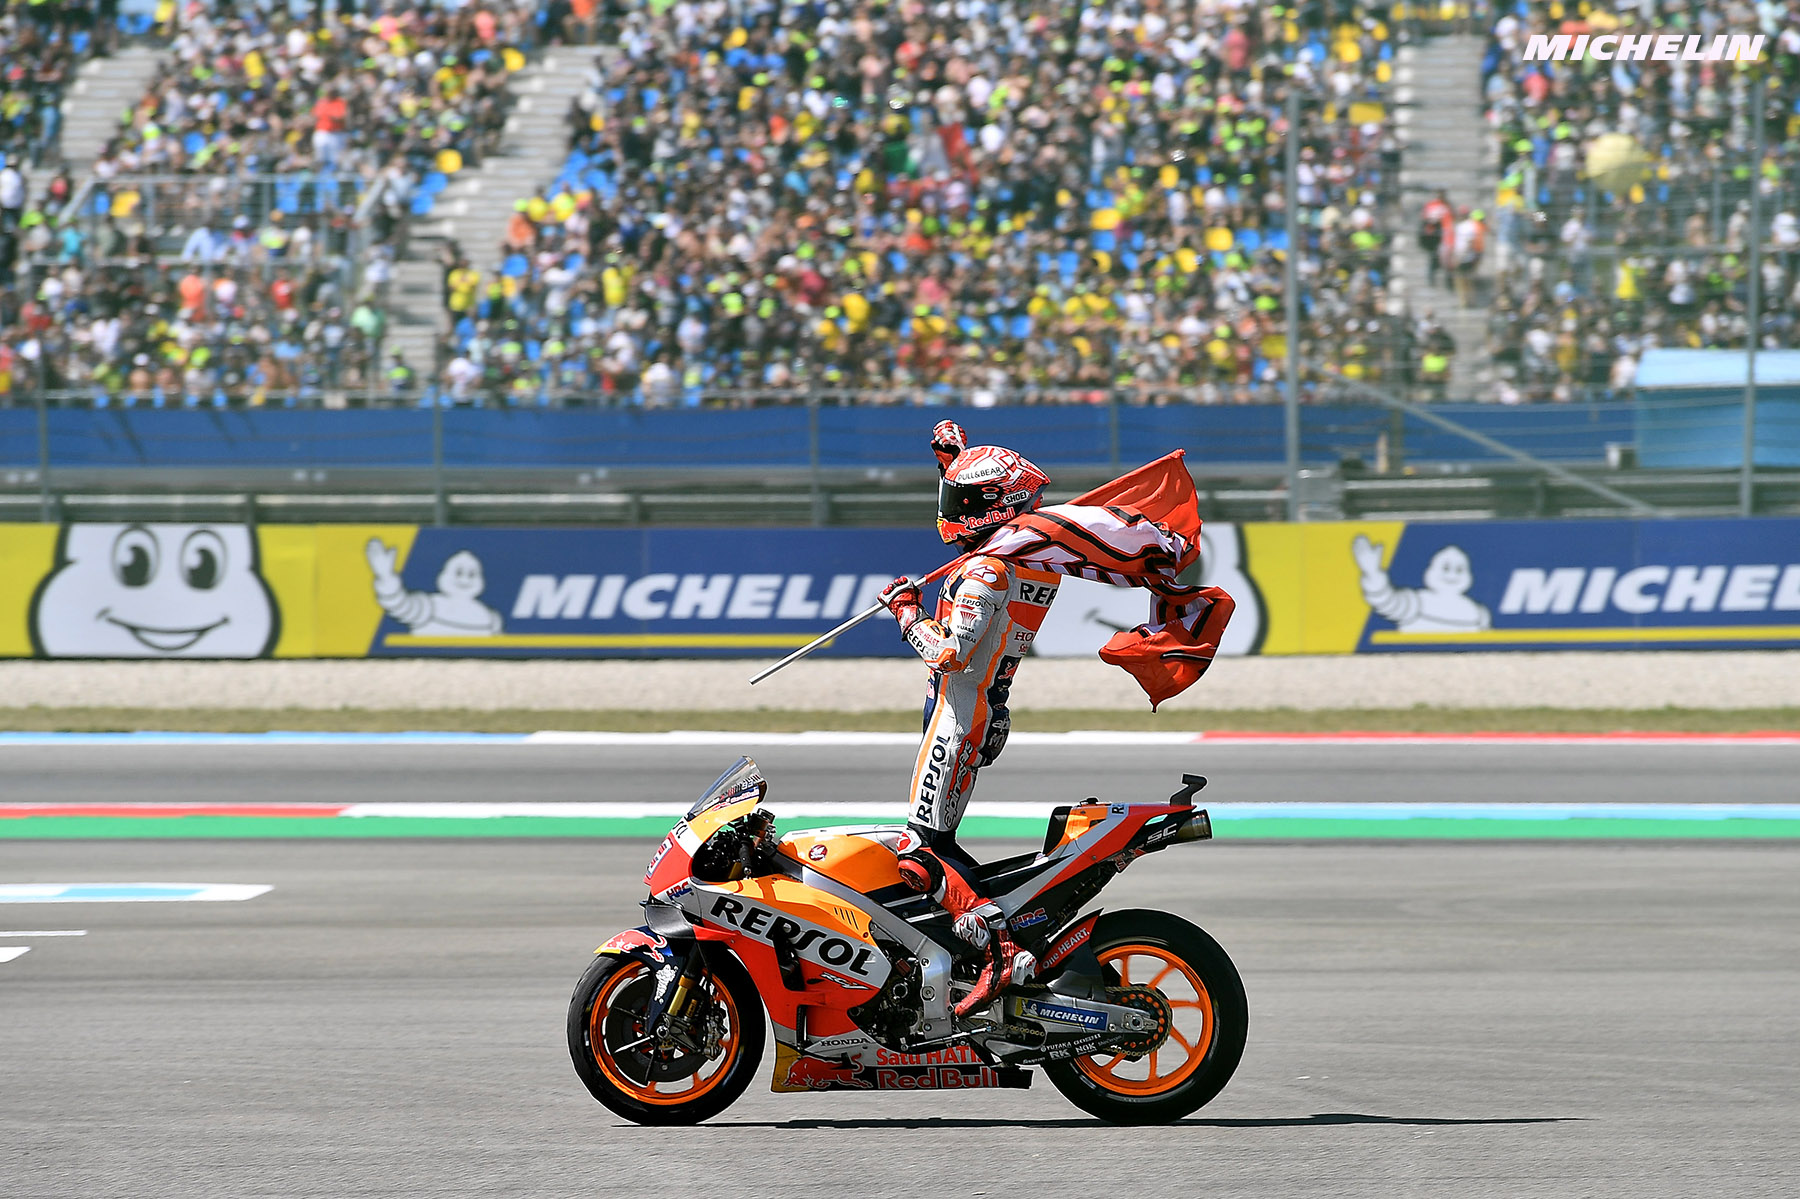helmet: (913, 404, 1051, 549)
